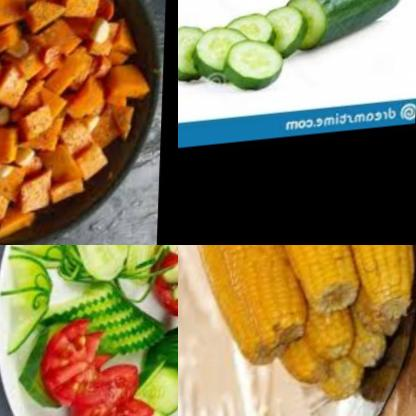corn: (182, 245, 288, 378), (185, 245, 304, 360), (312, 245, 416, 332), (263, 245, 363, 325), (295, 296, 353, 368), (315, 349, 385, 405), (349, 300, 401, 372)
cucumber: (178, 4, 308, 106), (51, 283, 172, 363), (0, 245, 178, 293), (281, 0, 404, 62), (144, 319, 178, 416)
pumpkin: (0, 0, 162, 245)
tomato: (42, 320, 122, 408), (68, 359, 159, 416), (149, 259, 178, 333)
